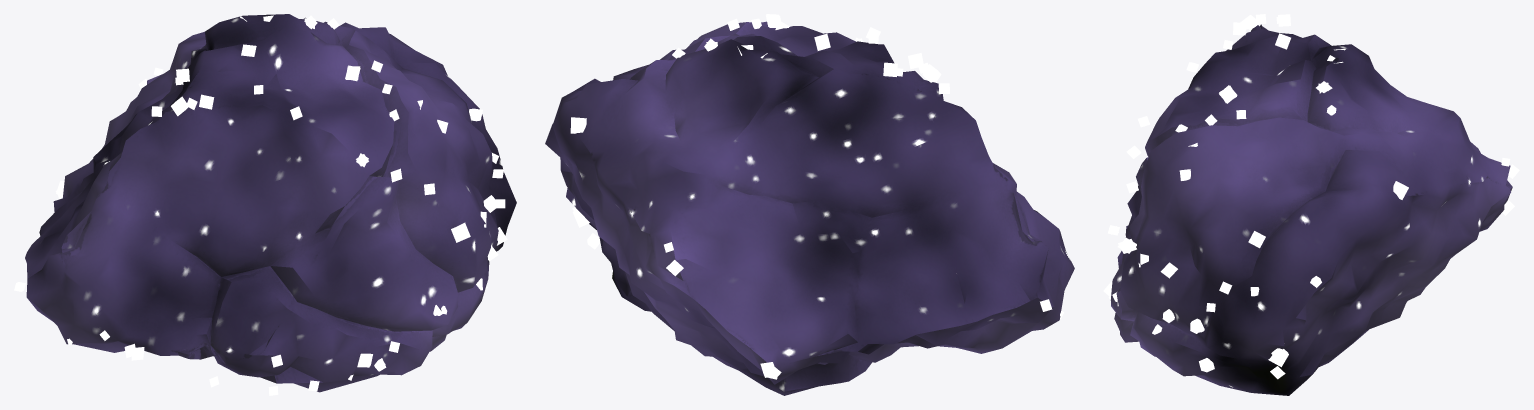
Rendered from mineral_estelar.fbx.
3 renders of one model, left to right at view 1: azimuth 30°, elevation 25°; view 2: azimuth 150°, elevation 25°; view 3: azimuth 270°, elevation 25°, orthographic. The views are drawn at different scales.
Visible parts, largest first — view 1: mineral_estelar, mineral_estelar_neon; view 2: mineral_estelar, mineral_estelar_neon; view 3: mineral_estelar, mineral_estelar_neon.
Boxes of the visible parts, x1=… form: mineral_estelar: x1=25, y1=14, x2=516, y2=392; mineral_estelar_neon: x1=14, y1=15, x2=507, y2=395; mineral_estelar: x1=545, y1=21, x2=1074, y2=395; mineral_estelar_neon: x1=570, y1=14, x2=1071, y2=379; mineral_estelar: x1=1110, y1=24, x2=1512, y2=395; mineral_estelar_neon: x1=1103, y1=14, x2=1519, y2=379.
Size of the model in its own units: 2.76 by 1.64 by 2.25.
Materials: 2 (2 with a texture image).
